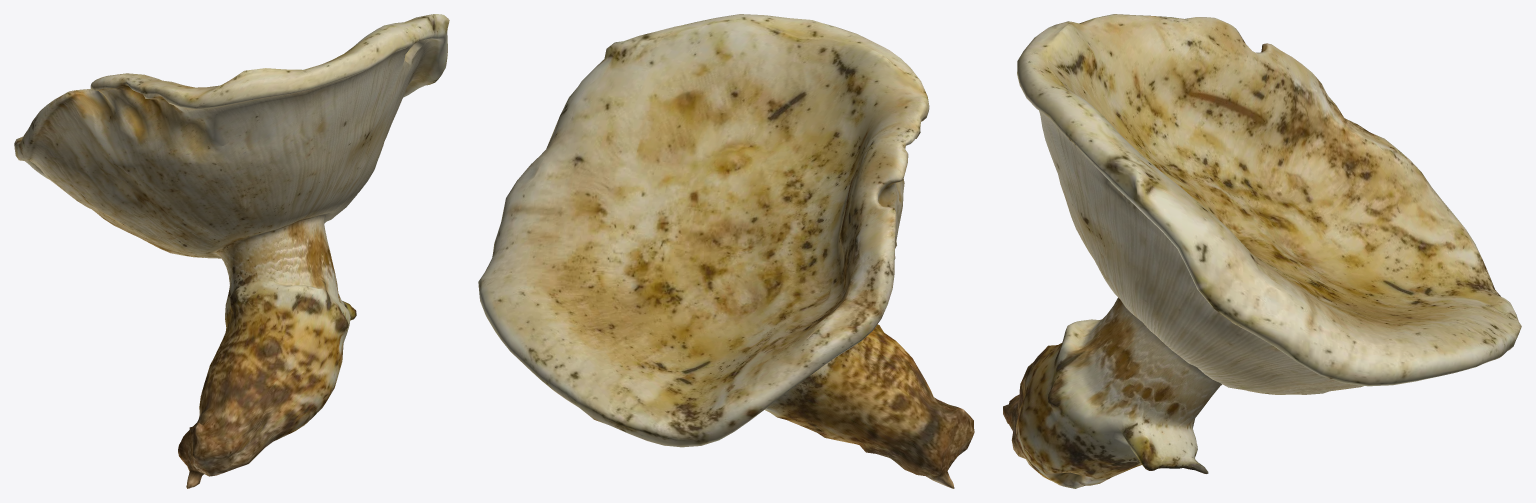
Rendered from mushroom.glb.
3 renders of one model, left to right at view 1: azimuth 30°, elevation 25°; view 2: azimuth 150°, elevation 25°; view 3: azimuth 270°, elevation 25°, orthographic. The views are drawn at different scales.
Visible parts, largest first — view 1: Object_2; view 2: Object_2; view 3: Object_2.
Part boxes in pixels (<box>): Object_2: <box>14,14,449,488</box>; Object_2: <box>478,14,974,488</box>; Object_2: <box>1003,14,1521,488</box>.
Size of the model in its own units: 0.1532 by 0.1552 by 0.1525.
1 material, 1 textured.
